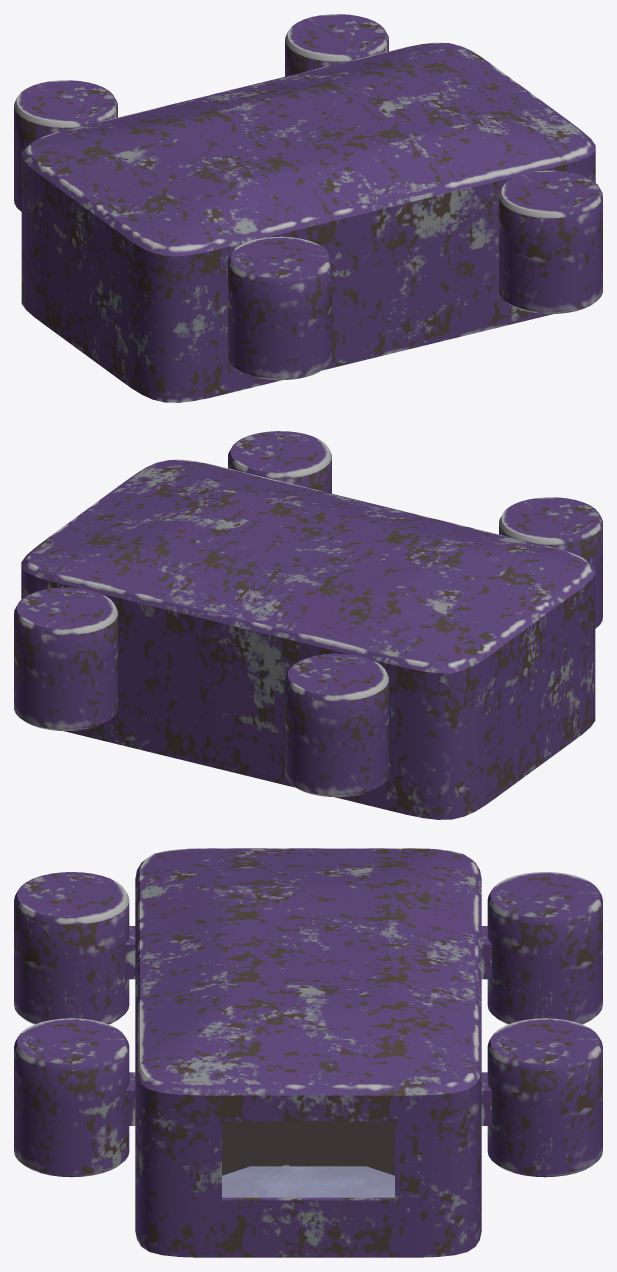
The model's file is spaceship.fbx.
3 renders of one model, top to bottom at view 1: azimuth 30°, elevation 25°; view 2: azimuth 150°, elevation 25°; view 3: azimuth 270°, elevation 25°, orthographic. The views are drawn at different scales.
Parts seen in each view (by area): view 1: corpus_low, back engine_low, front engine_low, door_low; view 2: corpus_low, back engine_low, front engine_low, door_low; view 3: corpus_low, front engine_low, back engine_low, panel_low.
Boxes of the visible parts, x1,y1,x2,y2 form: corpus_low: [21, 42, 595, 402]; back engine_low: [14, 80, 331, 380]; front engine_low: [285, 14, 602, 313]; door_low: [43, 178, 121, 376]; corpus_low: [21, 459, 595, 819]; back engine_low: [285, 497, 602, 797]; front engine_low: [14, 431, 331, 730]; door_low: [495, 595, 573, 793]; corpus_low: [135, 848, 481, 1257]; front engine_low: [14, 1018, 602, 1177]; back engine_low: [14, 872, 602, 1024]; panel_low: [222, 1166, 394, 1197].
Bounding box in the file's own units: 1000 × 360 × 1020.
1 material, 1 textured.
